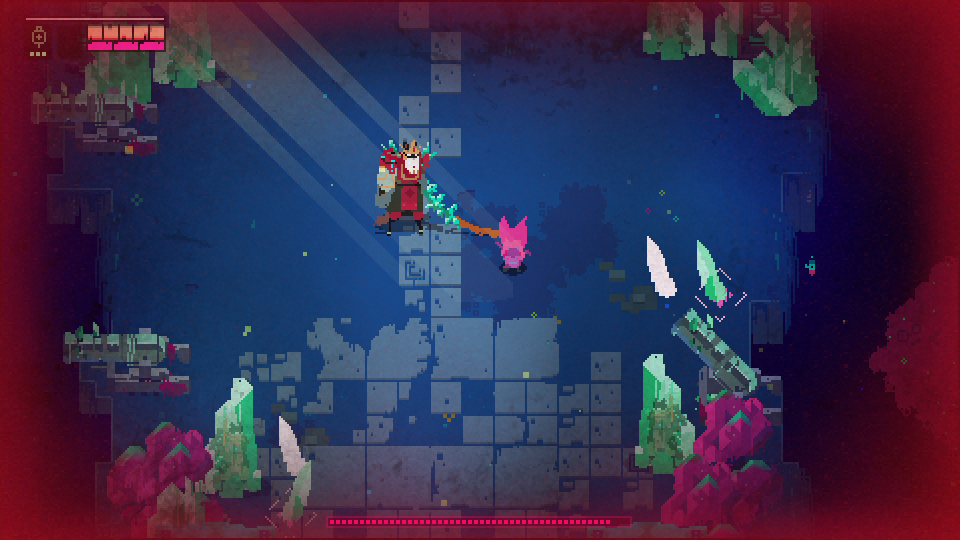hanged_man: (374, 133, 470, 241)
player: (494, 214, 530, 276)
